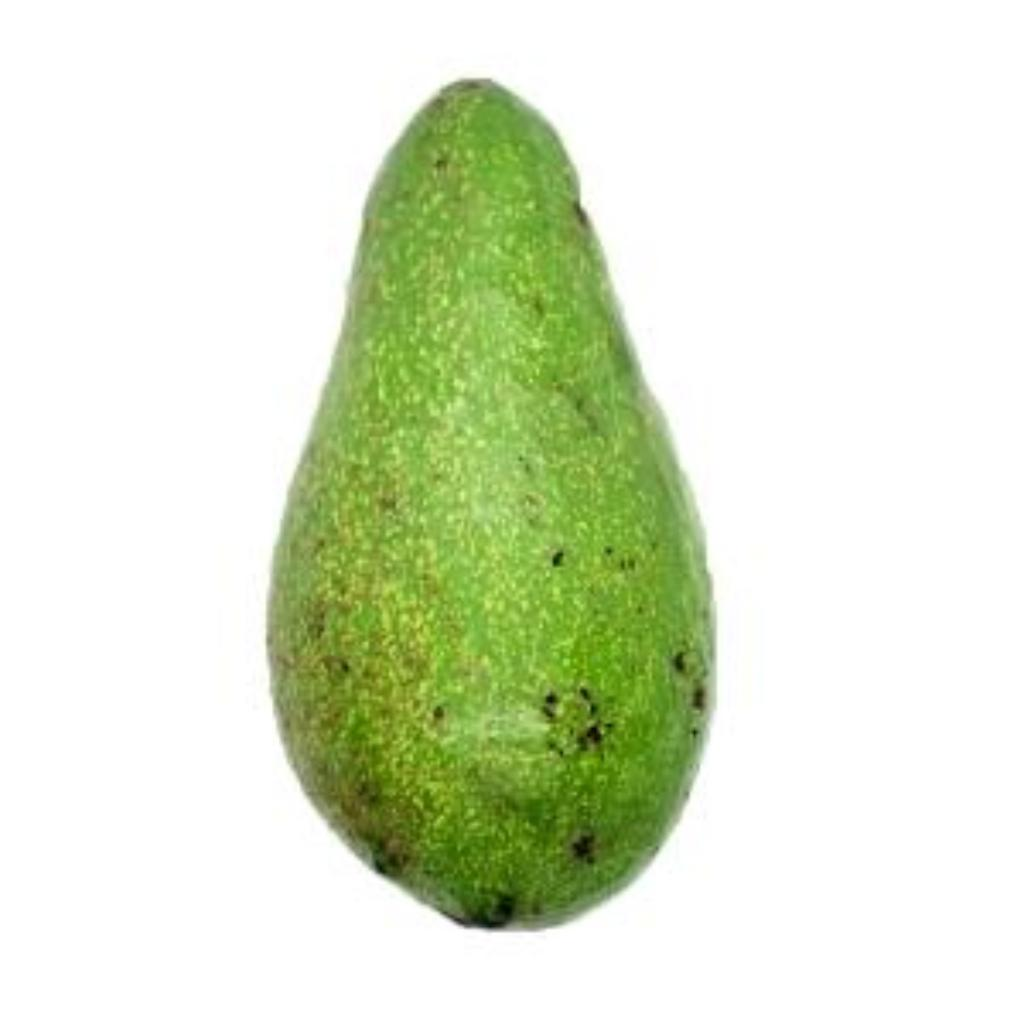cercospora: (257, 63, 739, 937)
